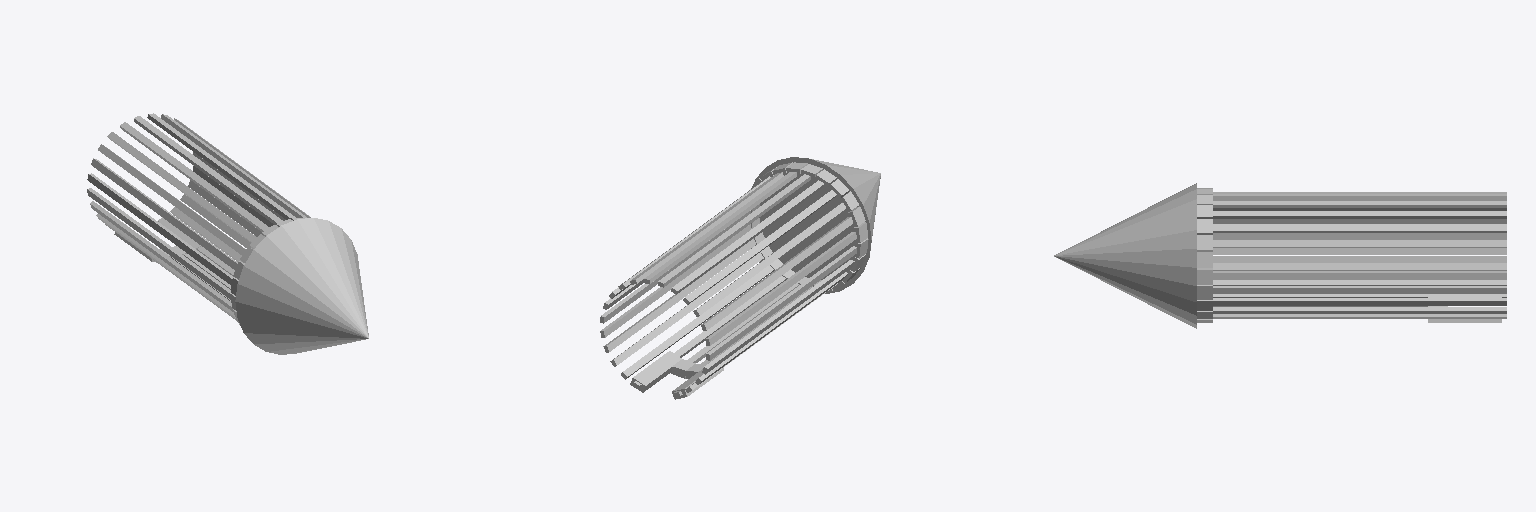
File: tower.obj
3 renders of one model, left to right at view 1: azimuth 30°, elevation 25°; view 2: azimuth 150°, elevation 25°; view 3: azimuth 270°, elevation 25°, orthographic.
Visible parts, largest first — view 1: obj_0; view 2: obj_0; view 3: obj_0.
Part boxes in pixels (left/top/right/bottom): obj_0: left=87, top=113, right=368, bottom=354; obj_0: left=600, top=157, right=880, bottom=399; obj_0: left=1054, top=183, right=1506, bottom=328.
Bounding box in the file's own units: 32 × 33 × 101.